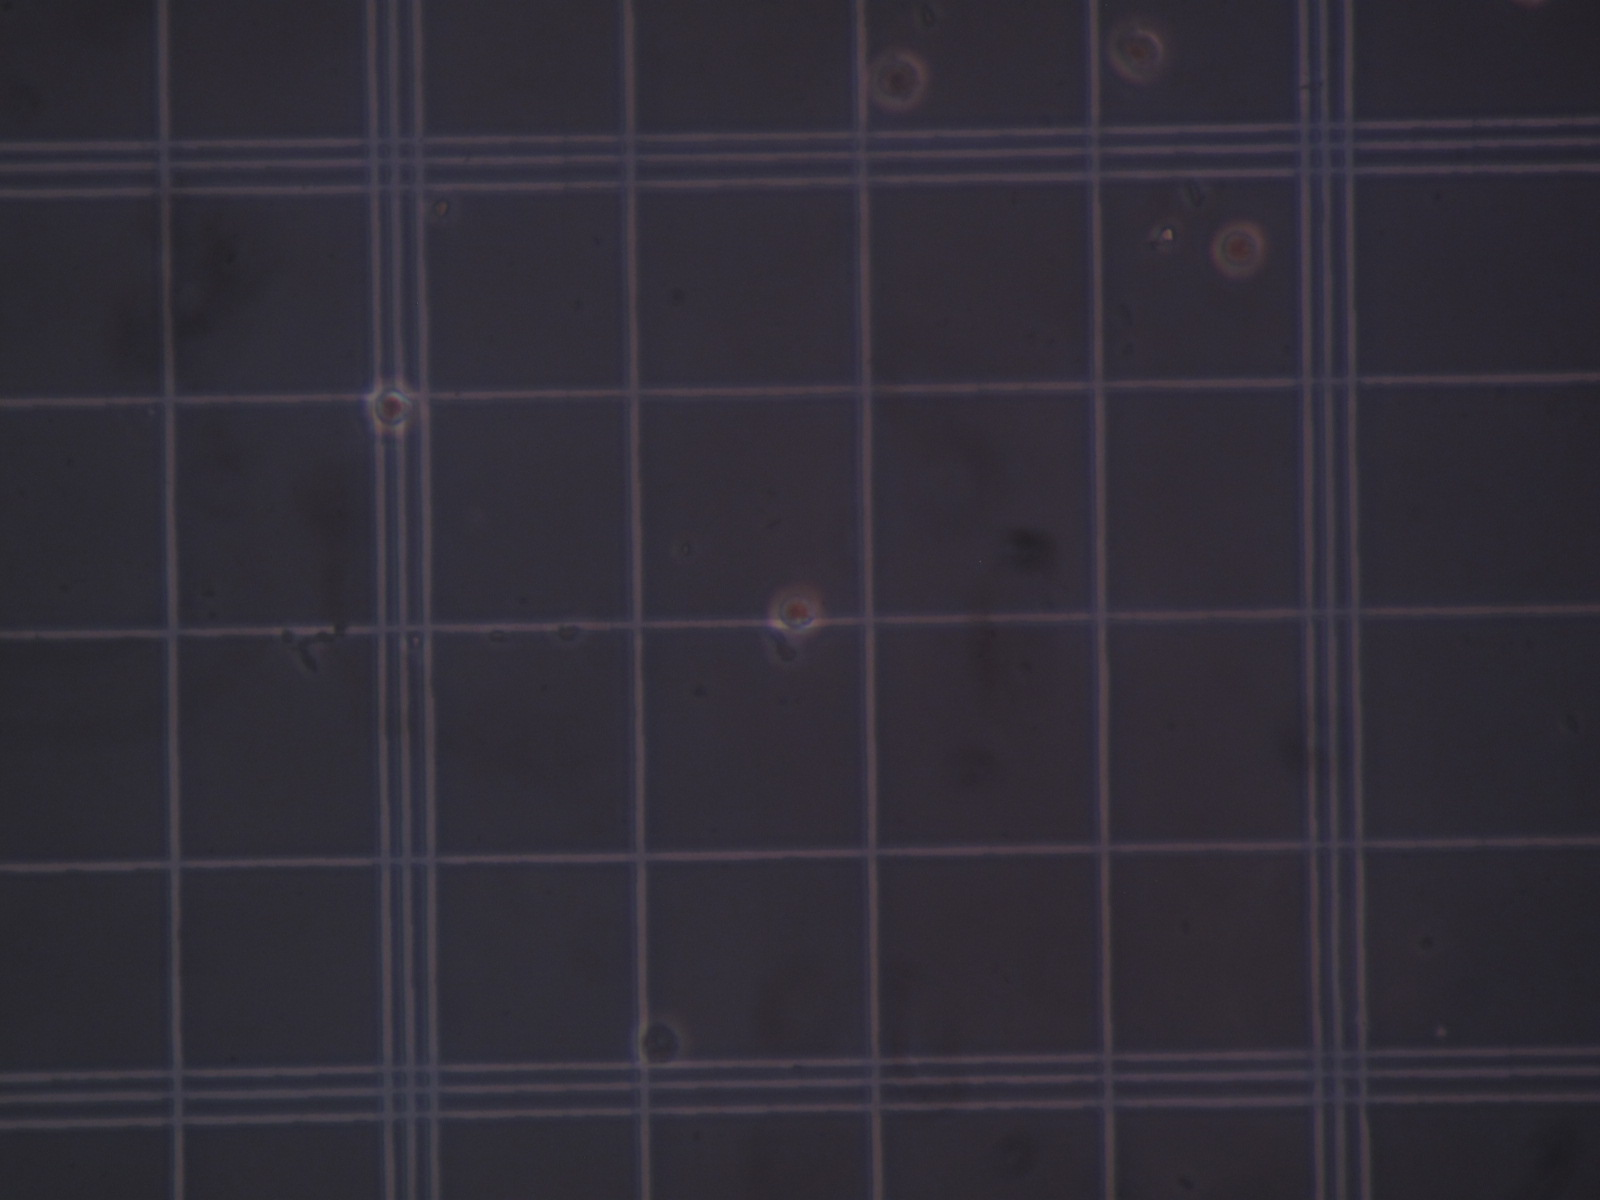hemo: (1106, 21, 1165, 83), (867, 50, 927, 110), (632, 1013, 687, 1071), (1211, 221, 1265, 279), (365, 379, 417, 434), (769, 585, 823, 635)
